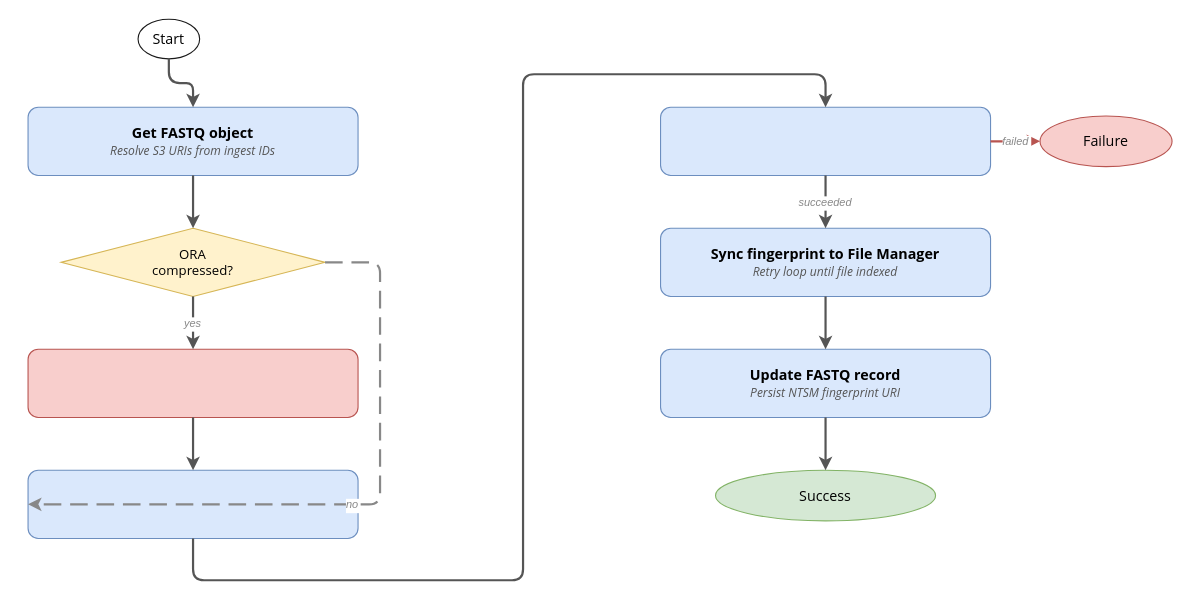
Some shapes in this 1191 by 609 pixel diagram are drawn without their labels. Here are the shapes that lost their labels. From the top down, the box of each, then its label:
(659, 106, 991, 175): Update job status
(27, 348, 358, 417): Decompress FASTQs (ORA) Wait for decompression callback
(27, 469, 358, 538): Run NTSM fingerprinting ECS Fargate task
